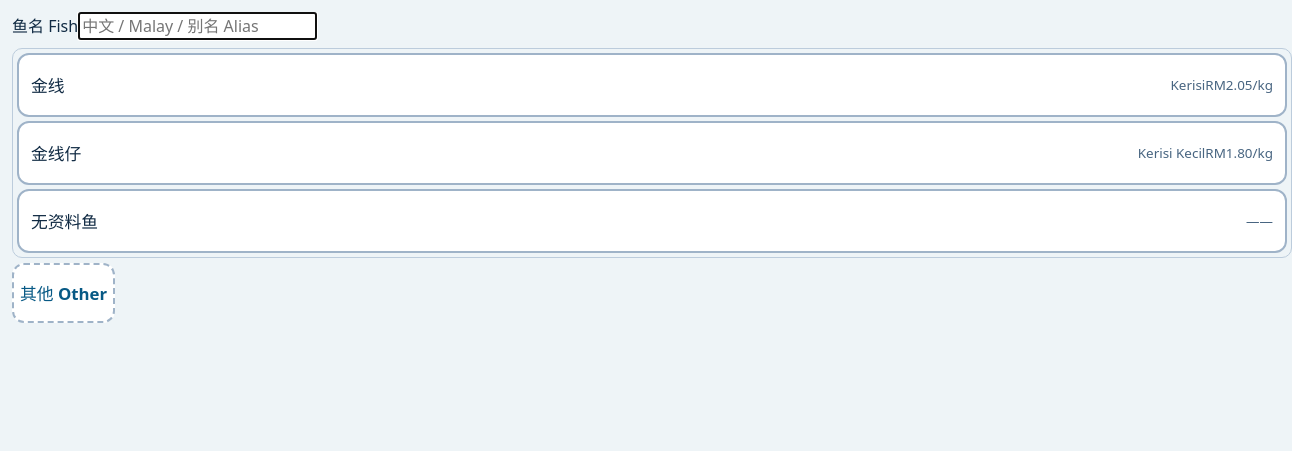
compact retail fish selection › keeps an Other save error visible and lets the user cancel without a write or selection
Click the button "其他 Other" at (64, 293), box [12, 263, 115, 323]
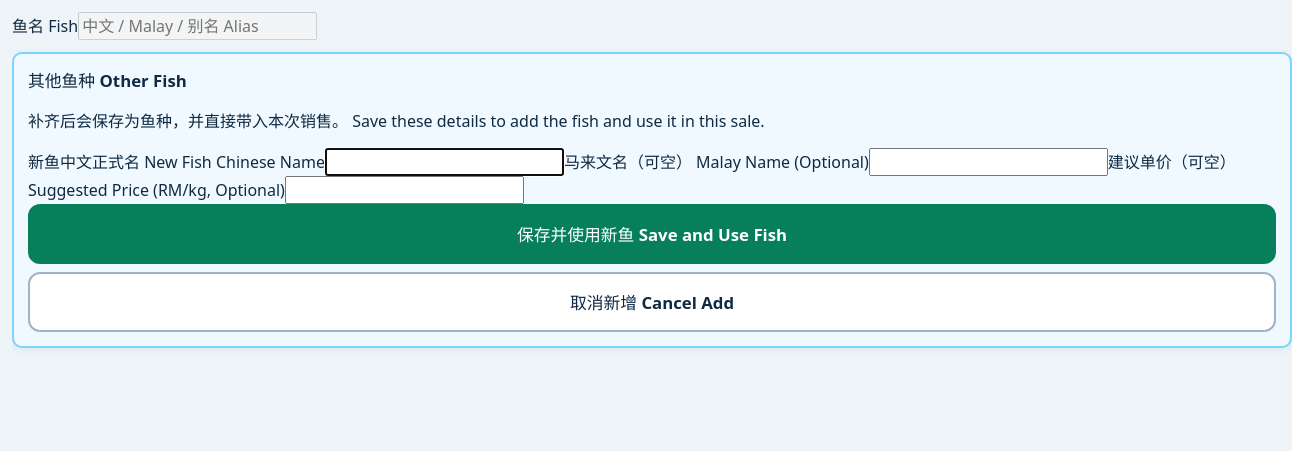
Type "红鱼" into the field labelled "新鱼中文正式名 New Fish Chinese Name" at (444, 162), box [325, 148, 564, 176]
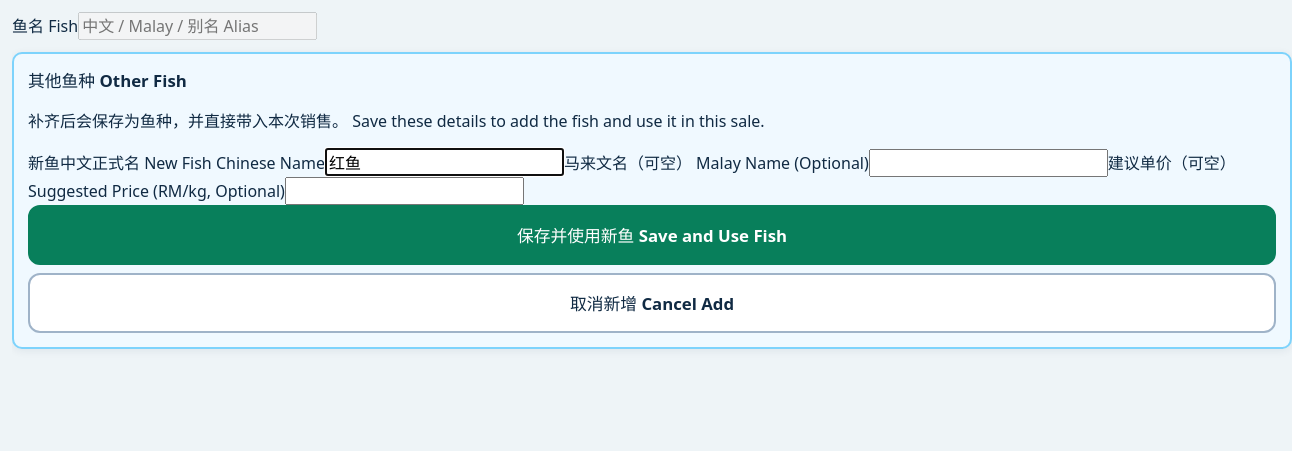
Type "Merah" into the field labelled "马来文名（可空） Malay Name (Optional)" at (988, 163), box [869, 149, 1108, 177]
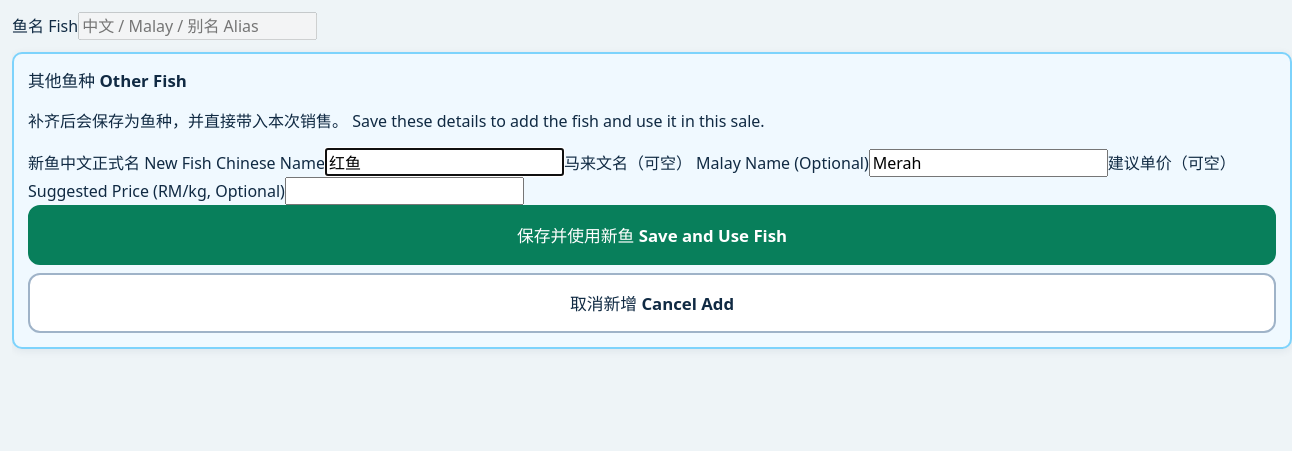
Type "12.05" into the field labelled "建议单价（可空） Suggested Price (RM/kg, Optional)" at (404, 191), box [285, 177, 524, 205]
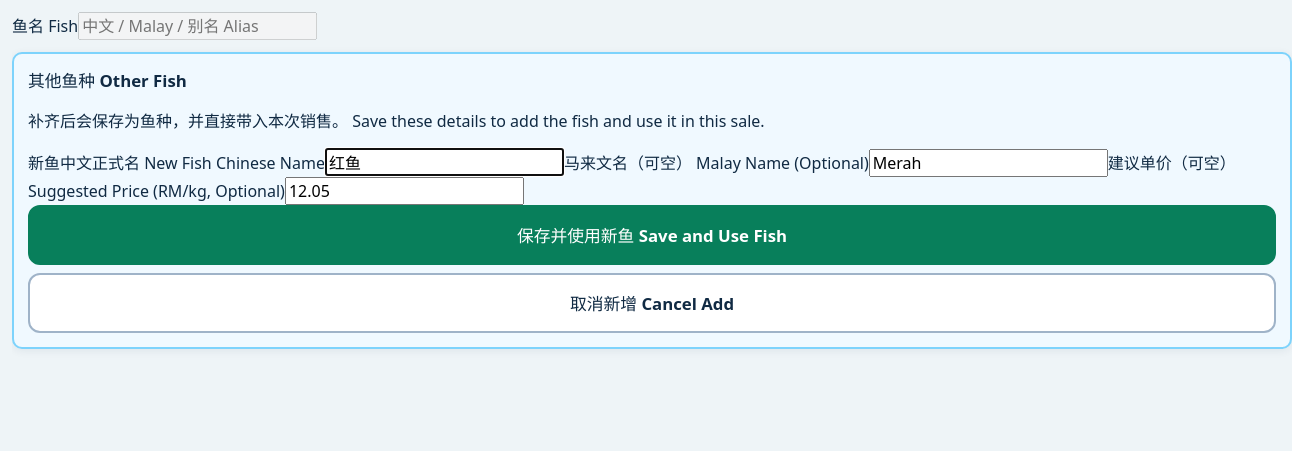
Click the button "保存并使用新鱼 Save and Use Fish" at (652, 235), box [28, 205, 1276, 265]
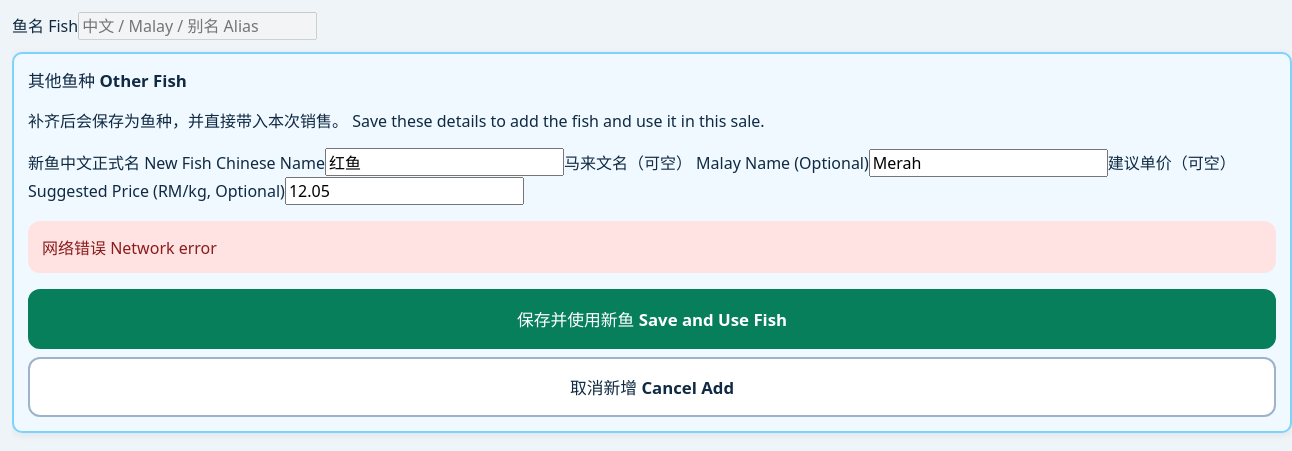
Now the button "保存并使用新鱼 Save and Use Fish" is enabled, box [28, 289, 1276, 349]
Now the message reads "网络错误 Network error", box [42, 237, 217, 259]
Click the button "取消新增 Cancel Add" at (652, 387), box [28, 357, 1276, 417]
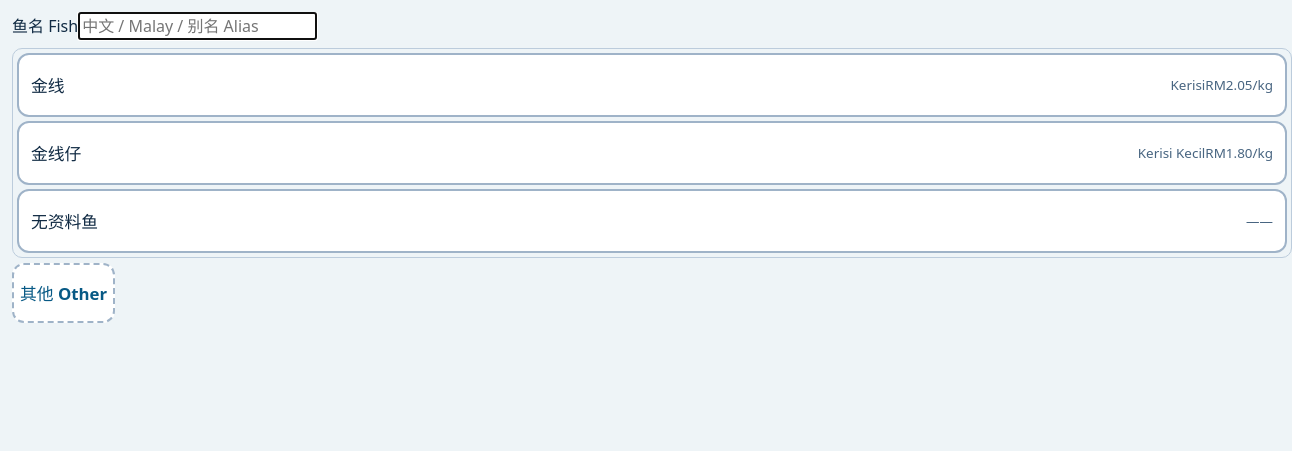
Now the number of options is 3, box [17, 53, 1287, 117]; [17, 121, 1287, 185]; [17, 189, 1287, 253]
